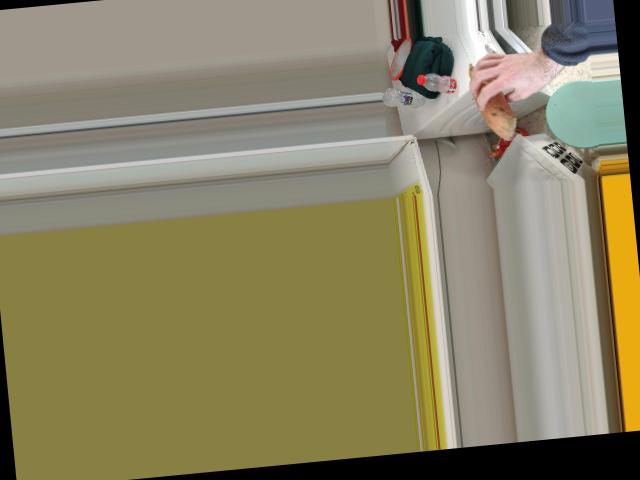sweet_potato: (468, 57, 510, 136)
